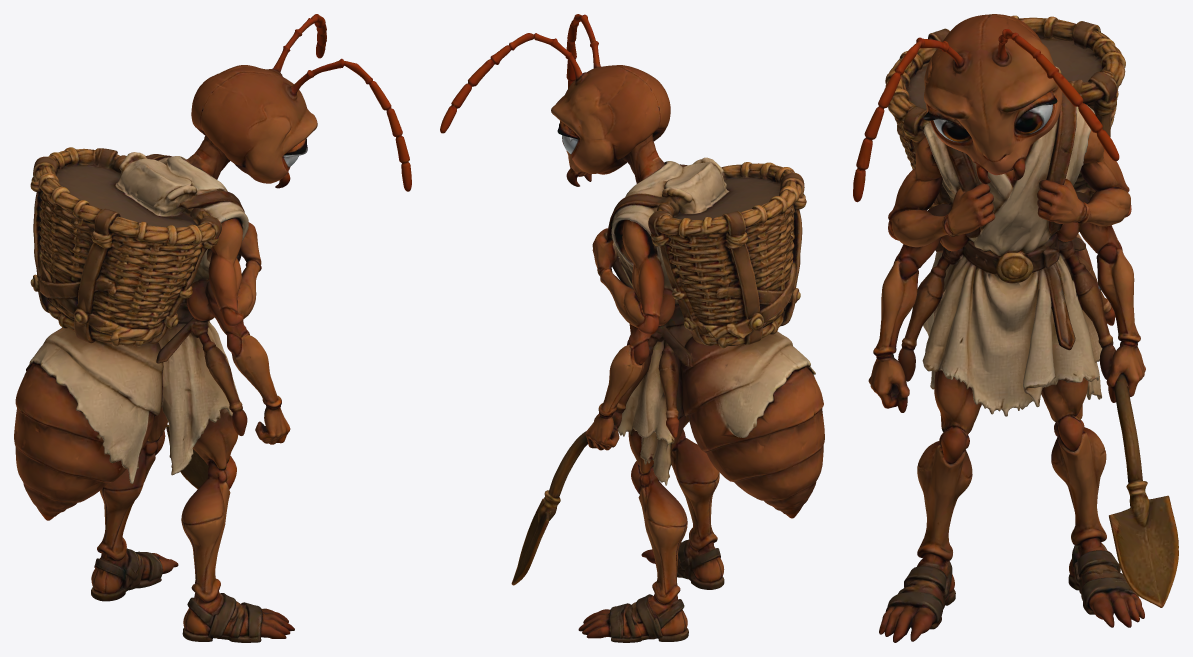
File: worker.glb
3 views of the same model, side by side, from view 1: azimuth 30°, elevation 25°; view 2: azimuth 150°, elevation 25°; view 3: azimuth 270°, elevation 25° (orthographic). The views are drawn at different scales.
Parts seen in each view (by area): view 1: node_7c4a5da1-686f-406a-9eae-eb14e70a7bf8; view 2: node_7c4a5da1-686f-406a-9eae-eb14e70a7bf8; view 3: node_7c4a5da1-686f-406a-9eae-eb14e70a7bf8.
Part boxes in pixels (x1,y1,x2,y2): node_7c4a5da1-686f-406a-9eae-eb14e70a7bf8: (14,14,411,642); node_7c4a5da1-686f-406a-9eae-eb14e70a7bf8: (440,14,824,642); node_7c4a5da1-686f-406a-9eae-eb14e70a7bf8: (853,14,1178,642).
Size of the model in its own units: 0.6445 by 1 by 0.4548.
1 material, 1 textured.
